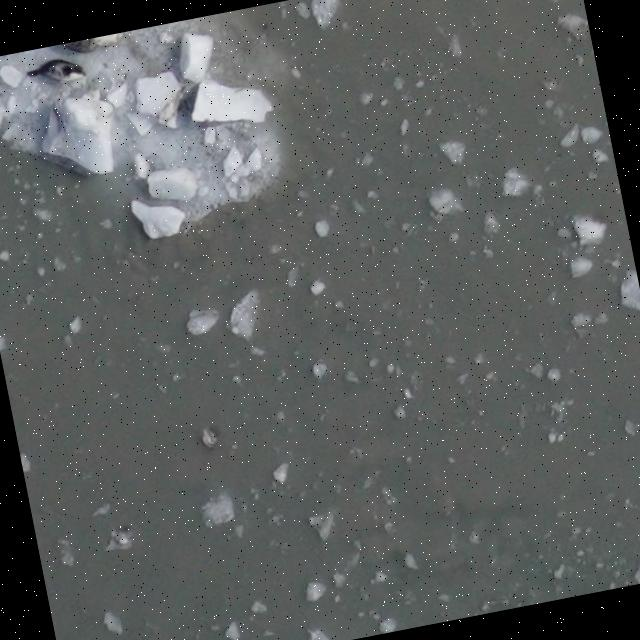seal: (26, 56, 89, 85)
